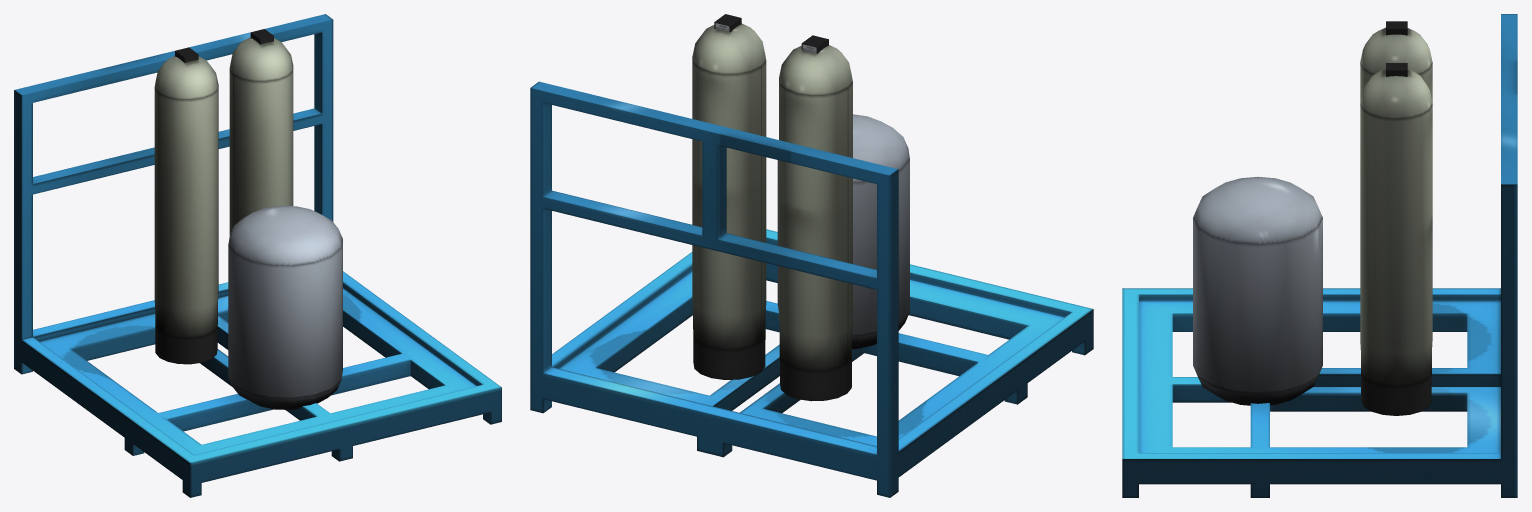
File: qiping003.FBX
3 renders of one model, left to right at view 1: azimuth 30°, elevation 25°; view 2: azimuth 150°, elevation 25°; view 3: azimuth 270°, elevation 25°, orthographic. The views are drawn at different scales.
Parts seen in each view (by area): view 1: qiping003; view 2: qiping003; view 3: qiping003.
Part boxes in pixels (left/top/right/bottom): qiping003: left=14, top=14, right=501, bottom=497; qiping003: left=530, top=14, right=1093, bottom=497; qiping003: left=1122, top=14, right=1517, bottom=497.
Size of the model in its own units: 1601 by 1605 by 1568.
